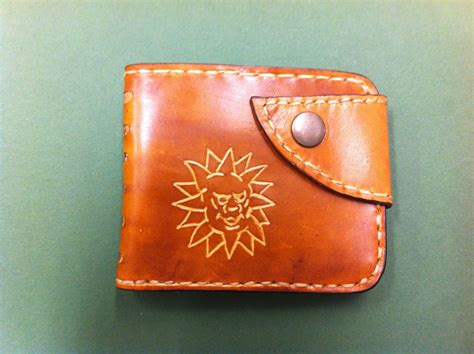cuero: (116, 63, 394, 295)
